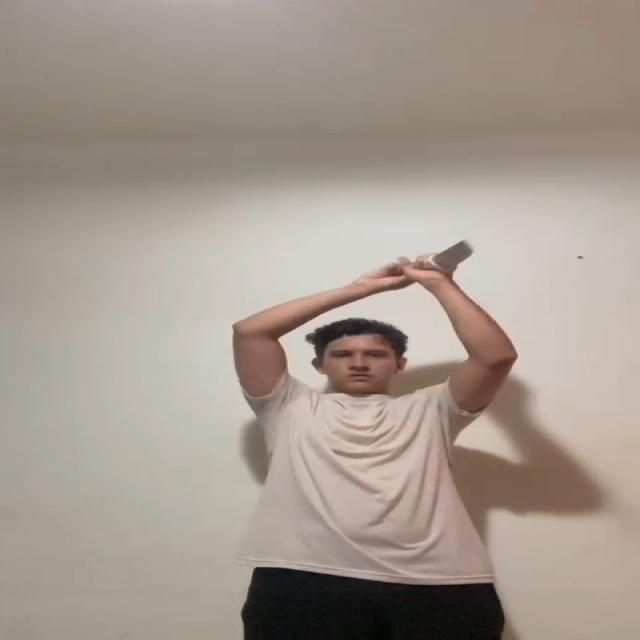knife: (442, 237, 480, 264)
